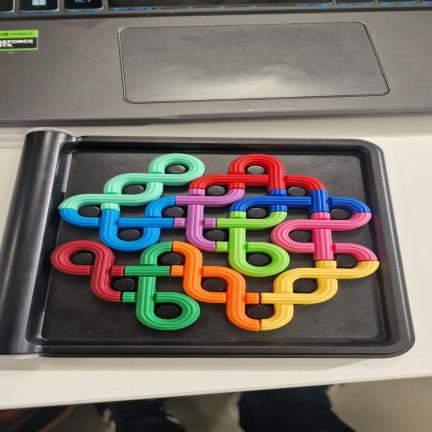A_Yellow: (261, 261, 379, 330)
B_SkyBlue: (60, 197, 175, 251)
C_DarkBlue: (230, 189, 370, 214)
D_Green: (123, 242, 200, 330)
E_Red: (189, 155, 325, 193)
F_Teal: (59, 154, 204, 209)
G_Pink: (271, 213, 377, 261)
H_Purple: (174, 189, 244, 251)
I_Orange: (171, 242, 260, 330)
J_DarkRed: (51, 241, 125, 302)
K_YellowGreen: (216, 211, 289, 277)
board: (0, 131, 414, 357)
hinge: (2, 138, 65, 347)
pin: (246, 304, 273, 320), (156, 303, 181, 319), (293, 278, 317, 293), (247, 253, 271, 266), (335, 254, 357, 268), (112, 278, 135, 291), (203, 278, 226, 291), (71, 252, 93, 265), (160, 253, 183, 265), (119, 229, 141, 241), (289, 230, 311, 242), (203, 230, 226, 241), (330, 208, 351, 220), (163, 206, 184, 218), (79, 206, 100, 217), (246, 165, 266, 175), (247, 208, 267, 218), (207, 186, 226, 196), (166, 165, 186, 174), (124, 185, 144, 194), (287, 187, 307, 196)
